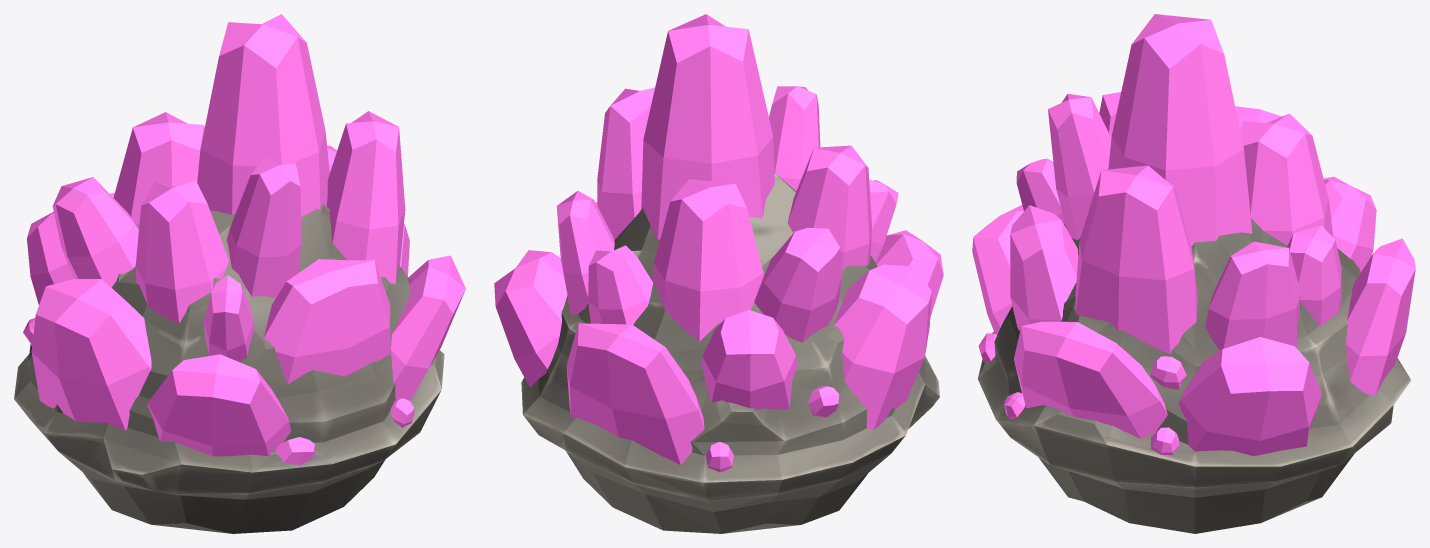
Rendered from pink-ore.glb.
3 renders of one model, left to right at view 1: azimuth 30°, elevation 25°; view 2: azimuth 150°, elevation 25°; view 3: azimuth 270°, elevation 25°, orthographic. The views are drawn at different scales.
Parts seen in each view (by area): view 1: big_ore_2_Cube.124; view 2: big_ore_2_Cube.124; view 3: big_ore_2_Cube.124.
Part boxes in pixels (<box>): big_ore_2_Cube.124: <box>14,14,465,533</box>; big_ore_2_Cube.124: <box>494,14,943,533</box>; big_ore_2_Cube.124: <box>972,14,1415,533</box>.
Bounding box in the file's own units: 1.37 × 1.55 × 1.32.
Materials: 2 (1 with a texture image).
